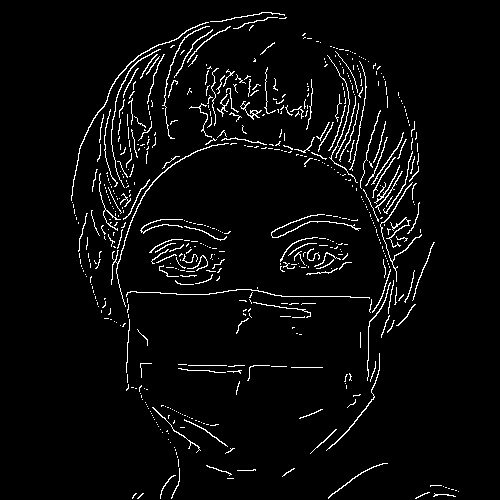mask: (116, 289, 387, 483)
